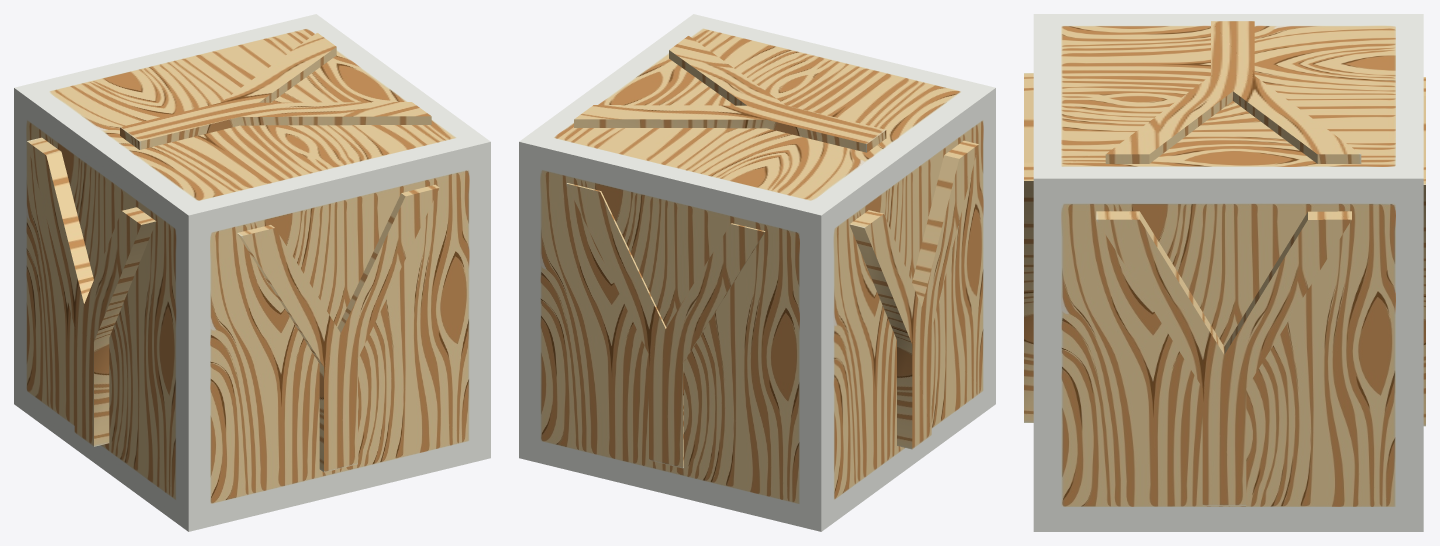
File: Block Y.fbx
3 views of the same model, side by side, from view 1: azimuth 30°, elevation 25°; view 2: azimuth 150°, elevation 25°; view 3: azimuth 270°, elevation 25° (orthographic). The views are drawn at different scales.
Visible parts, largest first — view 1: Box, FRONT, LEFT, TOP; view 2: Box, BACK, LEFT, TOP; view 3: Box, RIGHT, TOP, FRONT, BACK.
Part boxes in pixels (x1=…): Box: x1=14, y1=14, x2=490, y2=531; FRONT: x1=237, y1=184, x2=439, y2=472; LEFT: x1=27, y1=137, x2=156, y2=446; TOP: x1=120, y1=32, x2=431, y2=149; Box: x1=519, y1=14, x2=995, y2=531; BACK: x1=566, y1=183, x2=765, y2=468; LEFT: x1=849, y1=140, x2=978, y2=449; TOP: x1=574, y1=35, x2=886, y2=152; Box: x1=1033, y1=14, x2=1423, y2=531; RIGHT: x1=1096, y1=211, x2=1351, y2=505; TOP: x1=1105, y1=21, x2=1361, y2=163; FRONT: x1=1024, y1=73, x2=1033, y2=422; BACK: x1=1423, y1=77, x2=1425, y2=426.
Bounding box in the file's own units: 1.1 × 1.04 × 1.03.
2 materials, 2 textured.
